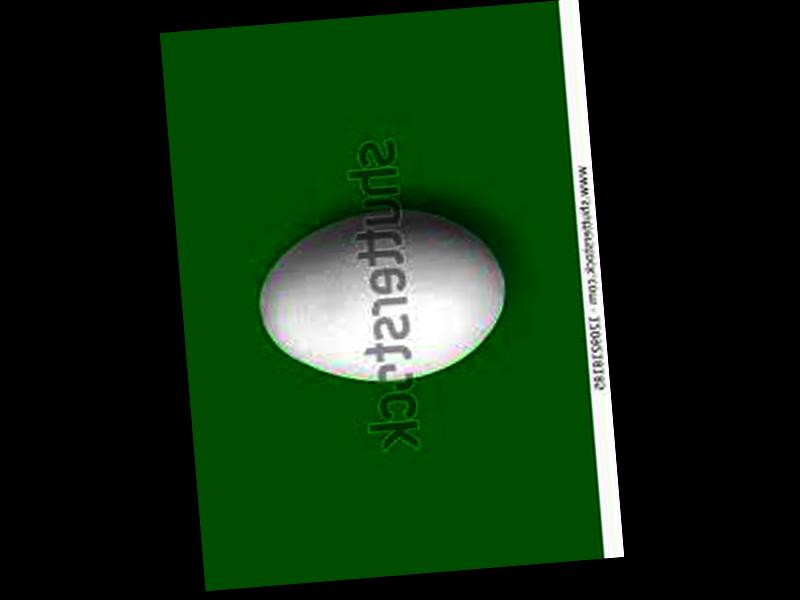Eggs: (252, 200, 510, 390)
